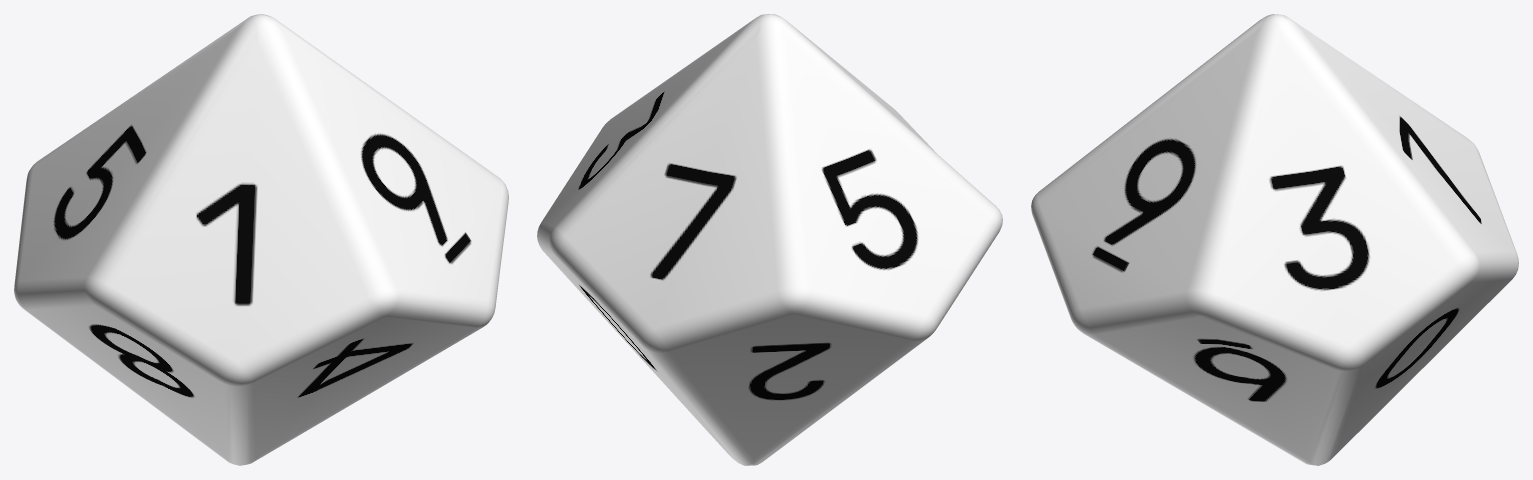
File: D10_Vol.FBX
The picture shows the model from 3 angles, left to right: view 1: azimuth 30°, elevation 25°; view 2: azimuth 150°, elevation 25°; view 3: azimuth 270°, elevation 25°; orthographic projection. The views are drawn at different scales.
Parts seen in each view (by area): view 1: Dado10Numb; view 2: Dado10Numb; view 3: Dado10Numb.
Part boxes in pixels (<box>): Dado10Numb: <box>14,14,508,465</box>; Dado10Numb: <box>537,14,1002,465</box>; Dado10Numb: <box>1031,14,1518,465</box>.
Bounding box in the file's own units: 241 × 254 × 251.
